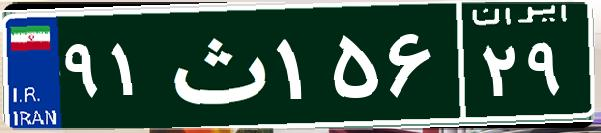1: (273, 28, 330, 110), (110, 28, 158, 105)
2: (475, 38, 525, 113)
5: (330, 28, 385, 110)
6: (385, 28, 445, 110)
9: (57, 26, 110, 107), (525, 38, 570, 115)
ث: (158, 15, 273, 115)
